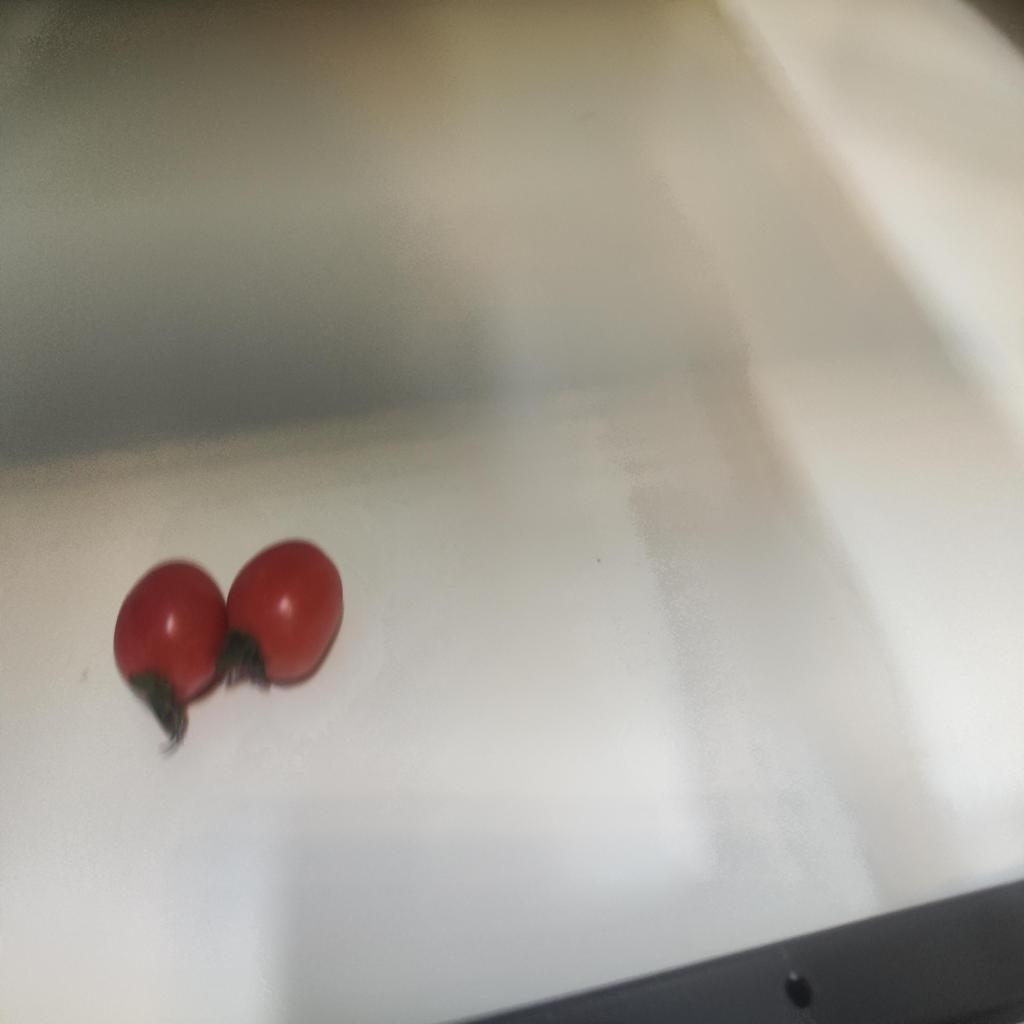tomato: (215, 536, 366, 689), (101, 554, 237, 711)
